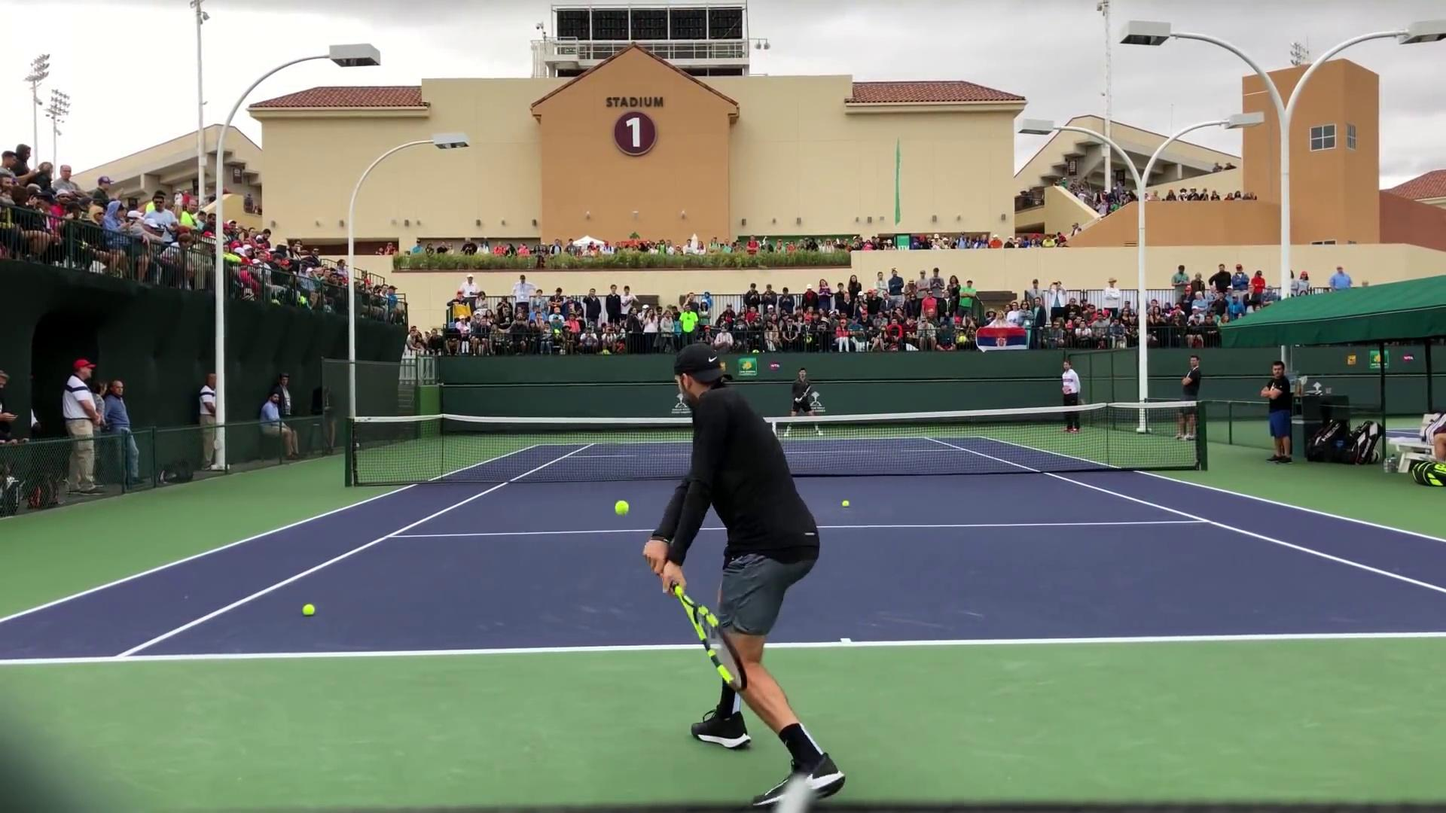ball: (613, 500, 630, 516), (302, 604, 315, 616), (841, 500, 850, 508)
